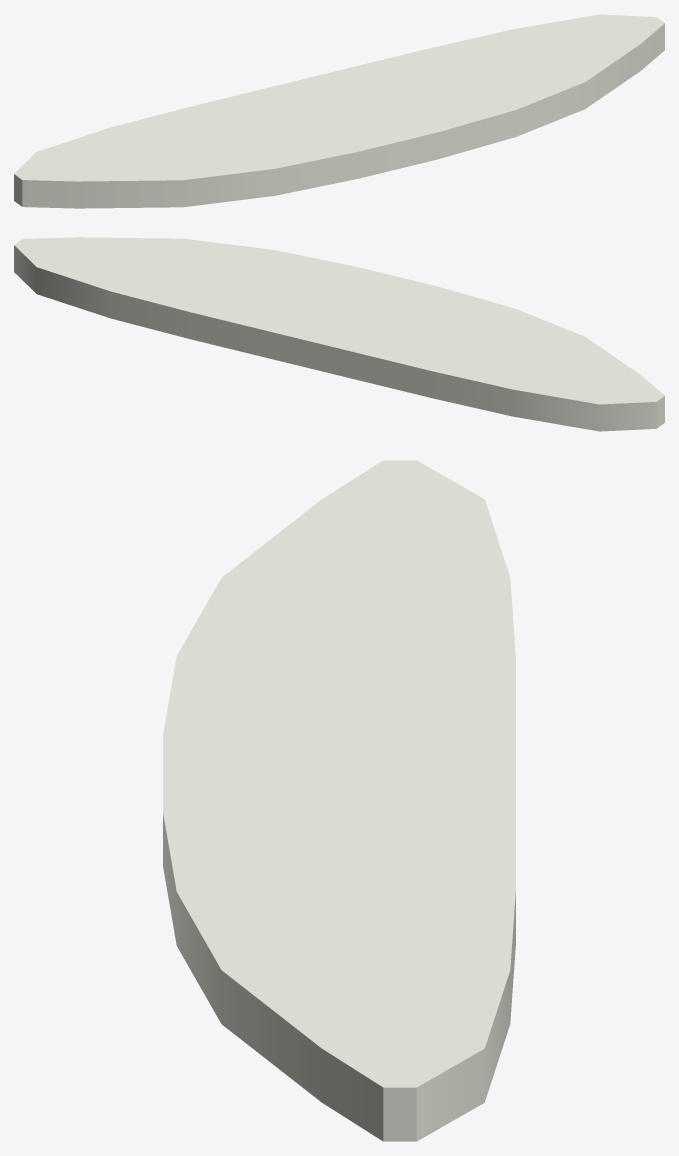
The model's file is shelf_clickable.glb.
3 views of the same model, one above another, from view 1: azimuth 30°, elevation 25°; view 2: azimuth 150°, elevation 25°; view 3: azimuth 270°, elevation 25° (orthographic). The views are drawn at different scales.
Parts seen in each view (by area): view 1: shelf; view 2: shelf; view 3: shelf.
Boxes of the visible parts, bbox=[...] form: shelf: bbox=[14, 14, 664, 208]; shelf: bbox=[14, 237, 664, 431]; shelf: bbox=[163, 460, 515, 1141].
Size of what is drawn, in the model's own units: 3.6 by 0.1448 by 0.8556.
Materials: 1 (1 with a texture image).
